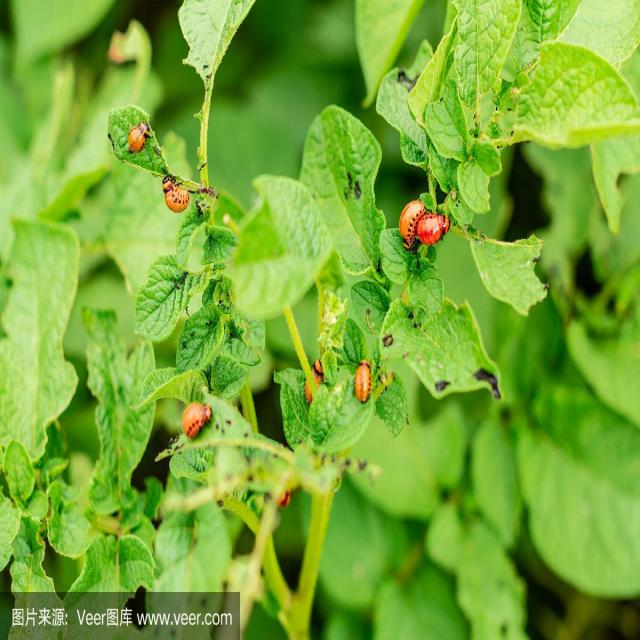ShuCaiHuaBanChong-Larva-: (388, 194, 428, 253), (178, 396, 216, 443), (353, 360, 383, 412), (159, 174, 196, 216), (411, 210, 448, 247), (125, 120, 153, 159)
